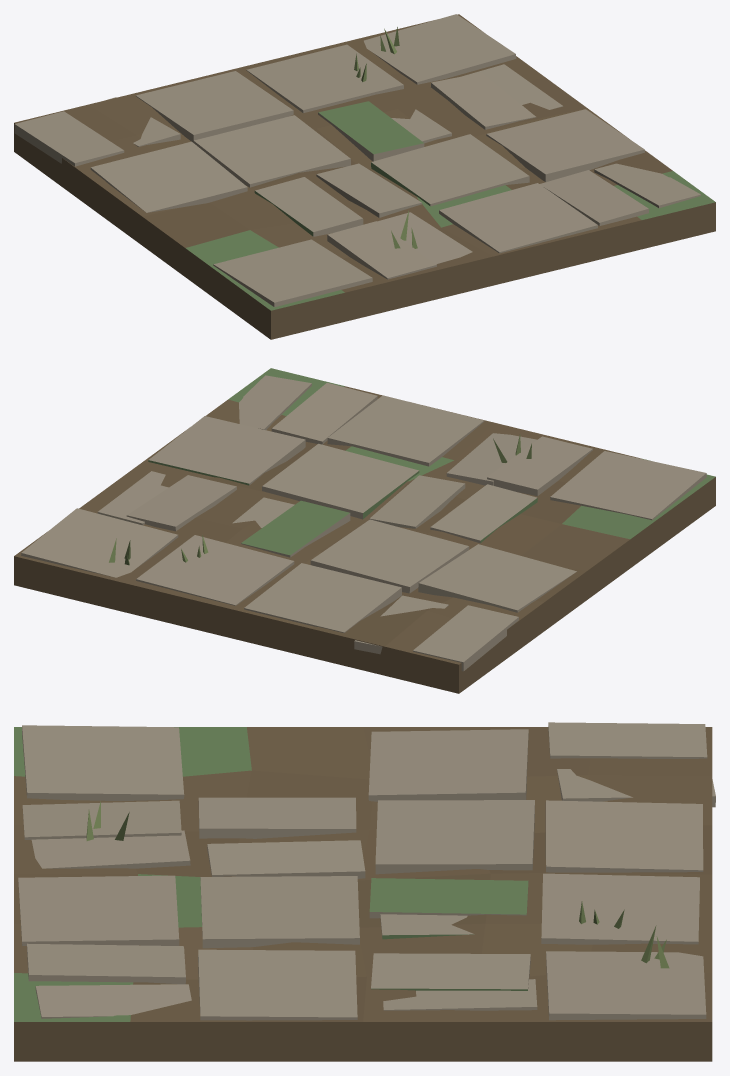
Rendered from ground_ruin_floor.glb.
3 renders of one model, top to bottom at view 1: azimuth 30°, elevation 25°; view 2: azimuth 150°, elevation 25°; view 3: azimuth 270°, elevation 25°, orthographic. The views are drawn at different scales.
Parts seen in each view (by area): view 1: ground_ruin_floor; view 2: ground_ruin_floor; view 3: ground_ruin_floor.
Boxes of the visible parts, x1=… form: ground_ruin_floor: x1=14, y1=14, x2=715, y2=339; ground_ruin_floor: x1=14, y1=368, x2=715, y2=693; ground_ruin_floor: x1=14, y1=722, x2=715, y2=1061.
Size of the model in its own units: 4.02 by 0.4756 by 4.02.
